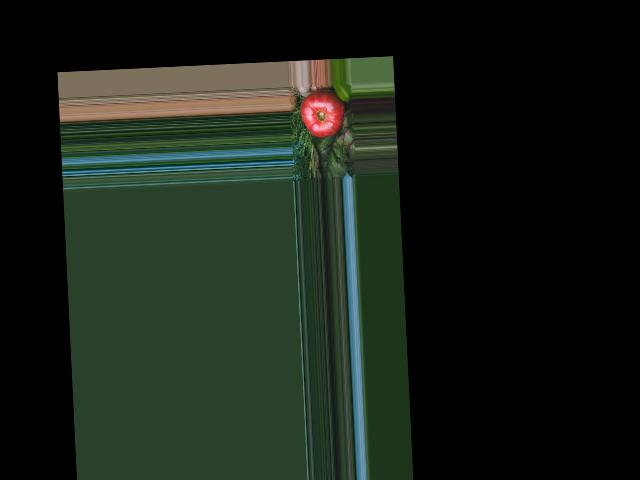tomato: (299, 87, 347, 137)
